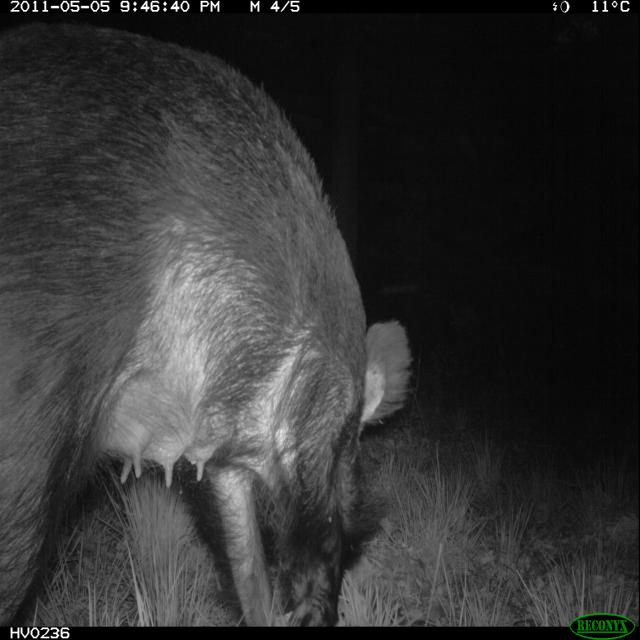boar: (0, 11, 462, 640)
